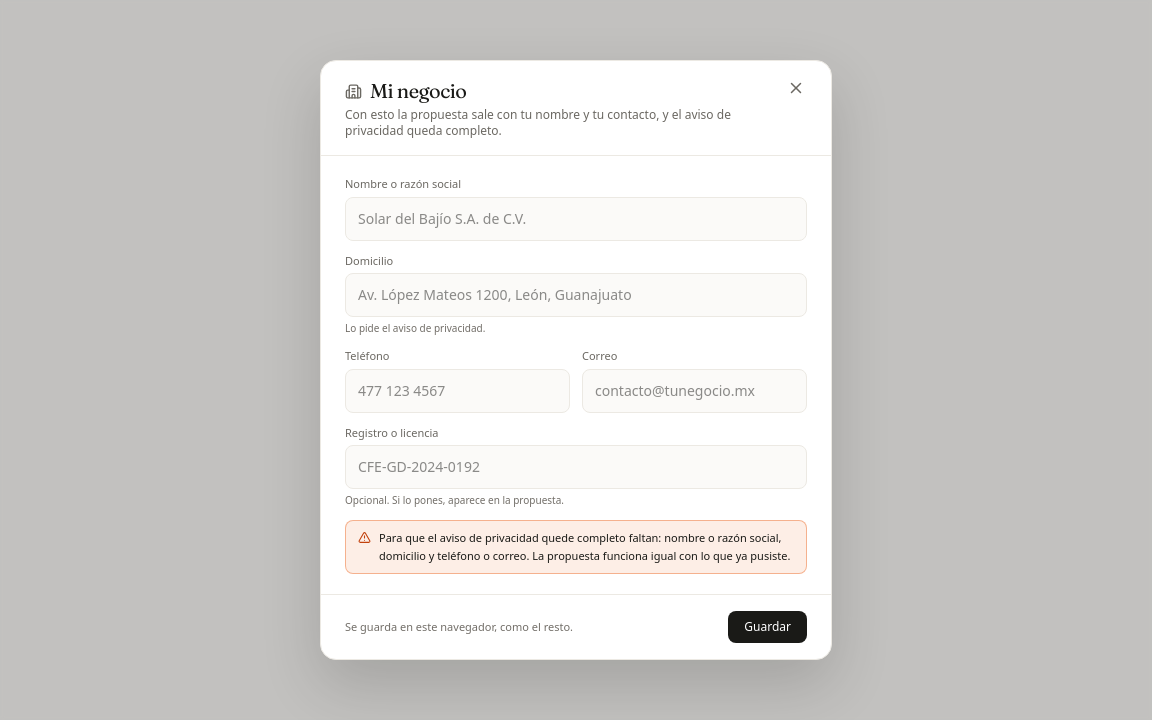
Scenario: Mi negocio › el aviso de lo que falta se actualiza al escribir, sin guardar
This screenshot has width=1152, height=720.
Type "Solar Norte" into the field with placeholder "Solar del Bajío S.A. de C.V." at (576, 219), box [345, 197, 807, 241]
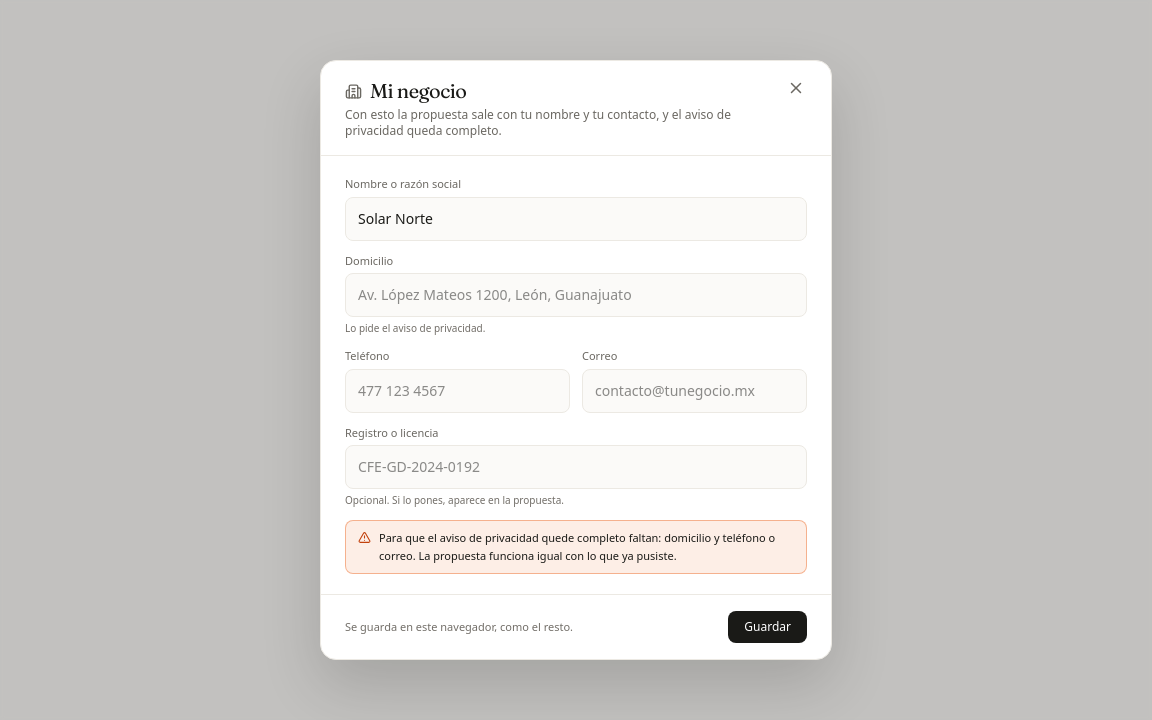
Type "Calle 5, Monterrey" into the field with placeholder "Av. López Mateos 1200, León, Guanajuato" at (576, 295), box [345, 273, 807, 317]
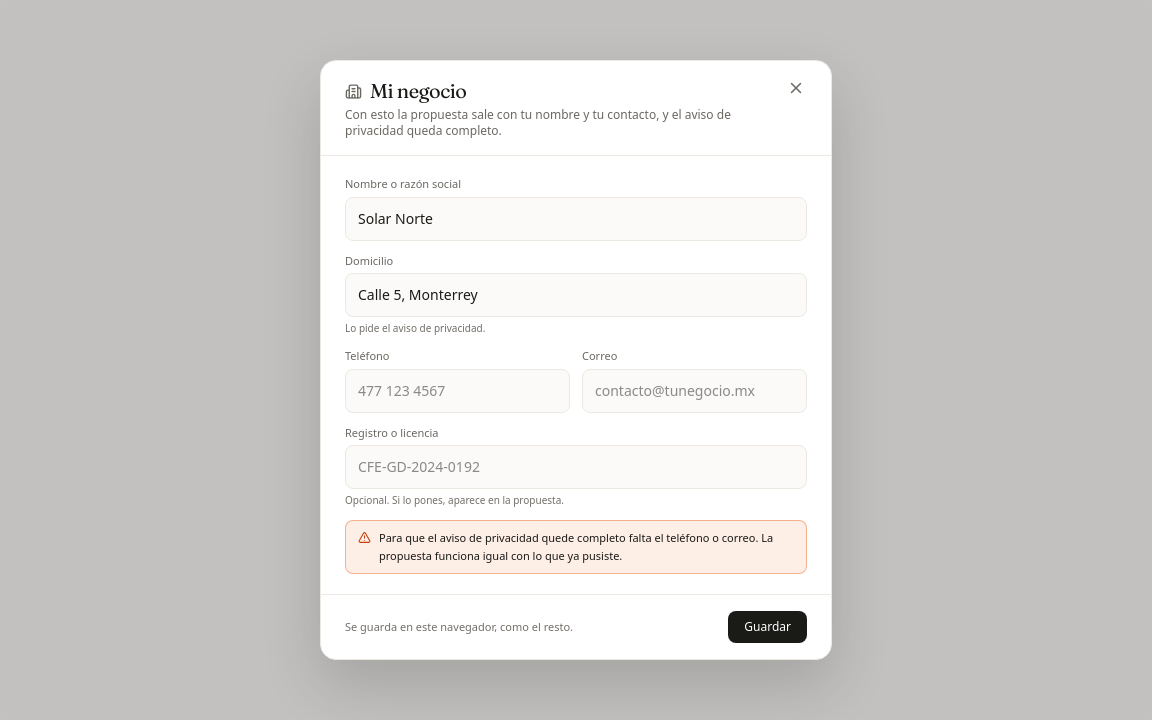
Now the text "falta el teléfono o correo" is shown, box [629, 530, 755, 545]
